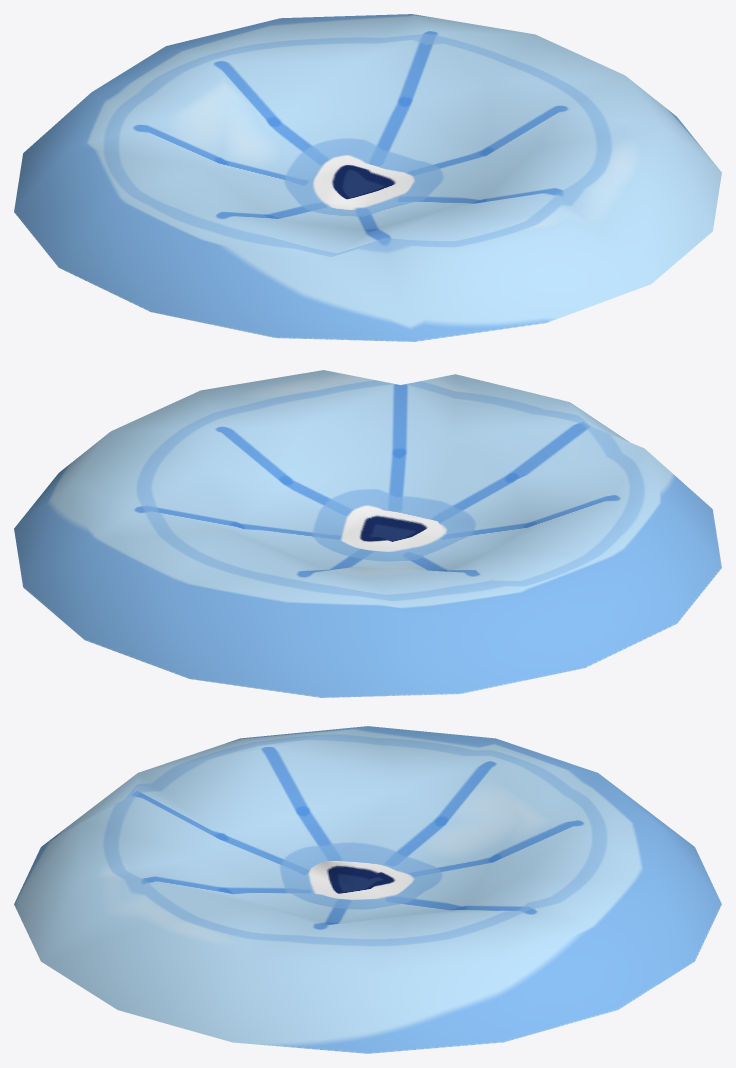
The model's file is Bubble_Popped_G.fbx.
3 renders of one model, top to bottom at view 1: azimuth 30°, elevation 25°; view 2: azimuth 150°, elevation 25°; view 3: azimuth 270°, elevation 25°, orthographic.
Parts seen in each view (by area): view 1: Bubble_Popped_G; view 2: Bubble_Popped_G; view 3: Bubble_Popped_G.
Boxes of the visible parts, x1,y1,x2,y2 form: Bubble_Popped_G: [14, 14, 721, 341]; Bubble_Popped_G: [14, 370, 721, 697]; Bubble_Popped_G: [14, 726, 721, 1053].
Size of the model in its own units: 1.13 by 0.112 by 1.13.
1 material, 1 textured.
